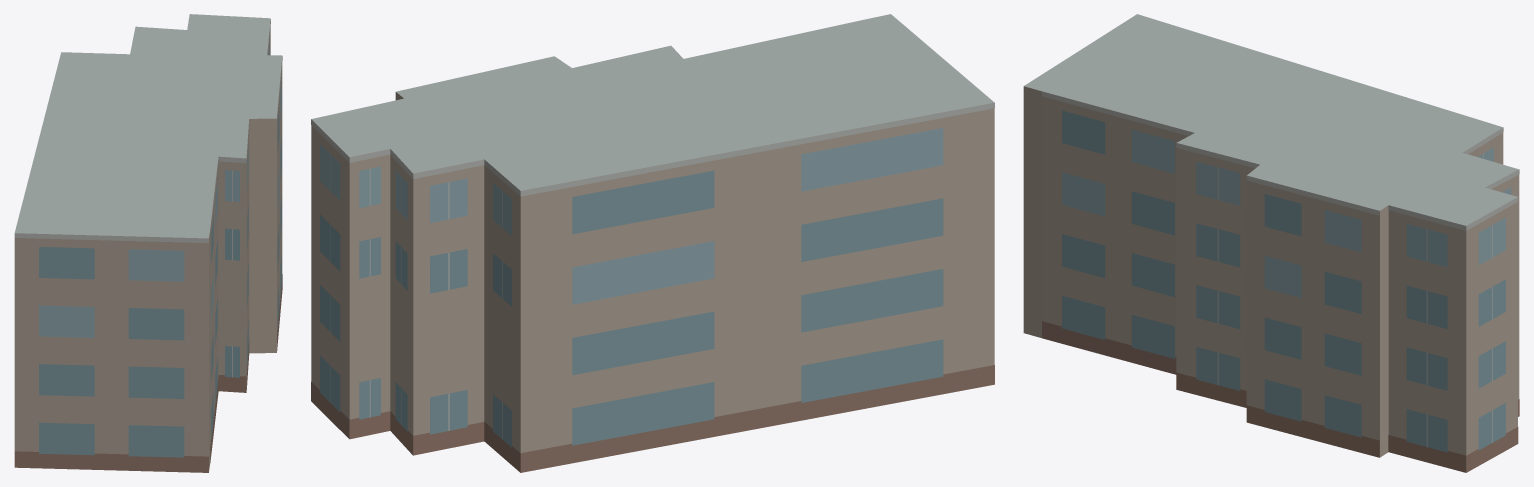
File: survey-upis-32927719.glb
3 views of the same model, side by side, from view 1: azimuth 30°, elevation 25°; view 2: azimuth 150°, elevation 25°; view 3: azimuth 270°, elevation 25° (orthographic). The views are drawn at different scales.
Parts seen in each view (by area): view 1: survey-upis-32927719.tmp; view 2: survey-upis-32927719.tmp; view 3: survey-upis-32927719.tmp.
Boxes of the visible parts, <box> form: survey-upis-32927719.tmp: <box>14,14,282,472</box>; survey-upis-32927719.tmp: <box>311,14,994,472</box>; survey-upis-32927719.tmp: <box>1023,14,1519,472</box>.
Bounding box in the file's own units: 22.47 × 12.2 × 22.21.
